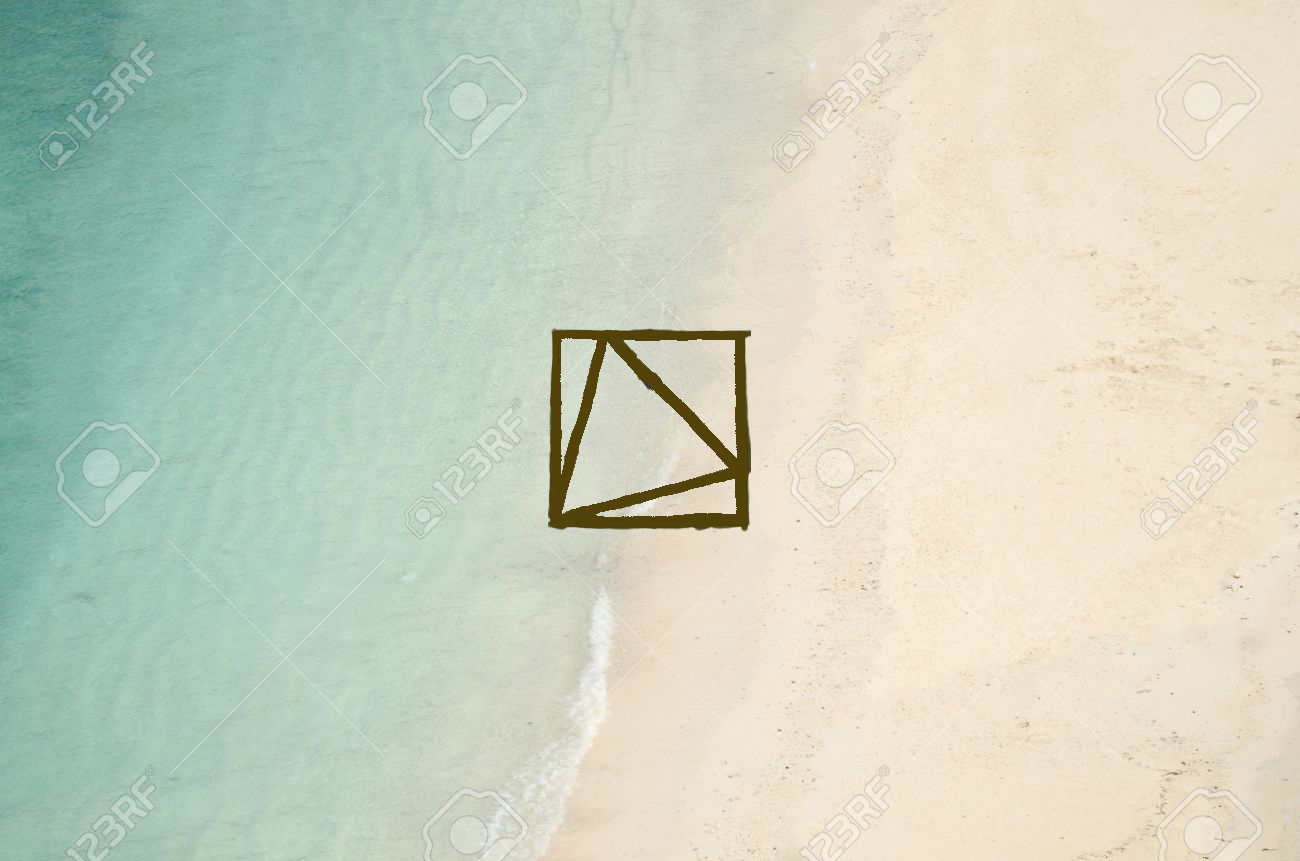marker: (546, 324, 749, 535)
